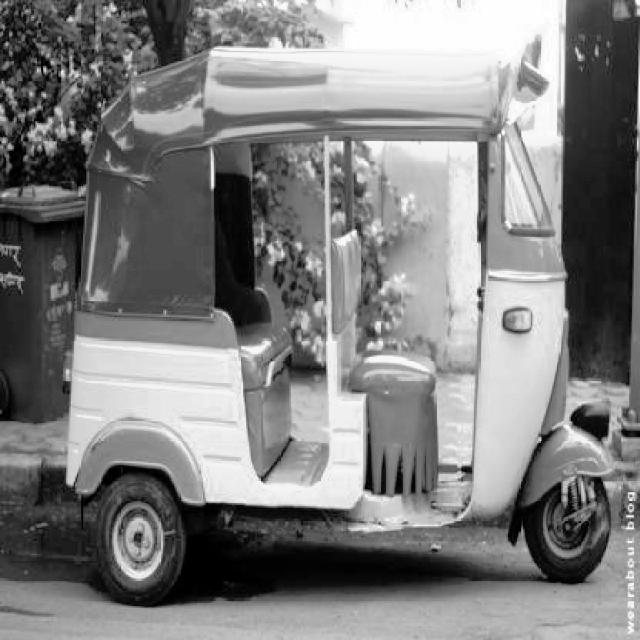Auto-Rickshaw: (64, 48, 636, 604)
